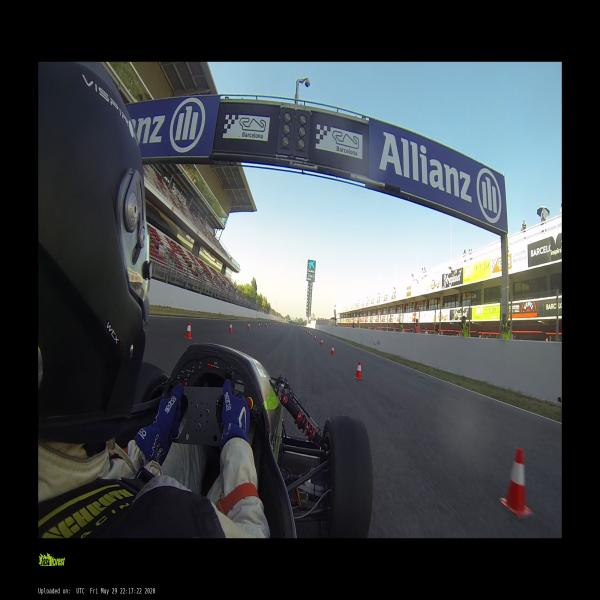orange_cone: (501, 448, 532, 517), (354, 361, 363, 379), (185, 321, 192, 339), (228, 322, 232, 332), (331, 345, 334, 356), (248, 322, 250, 330), (314, 335, 317, 340), (321, 338, 323, 345), (258, 322, 260, 328), (265, 322, 267, 327)
